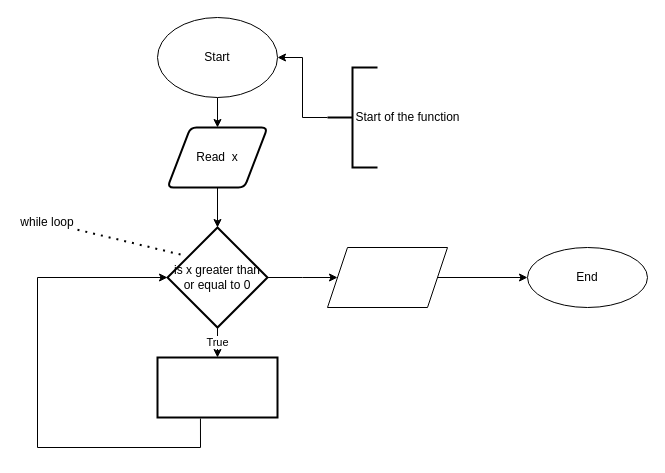
Image size: 665x473. Some labels were removed from this diagram. The centre of each missing label's shape, as x and y in pixels:
Print sum: the point at 387,277
sum = x + sum: the point at 217,387
